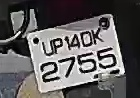1: (64, 36, 70, 51)
2: (39, 60, 59, 82)
4: (71, 34, 81, 49)
5: (96, 47, 118, 71), (77, 51, 98, 75)
7: (60, 55, 77, 80)
D: (80, 30, 92, 48)
K: (91, 27, 105, 46)
P: (52, 37, 64, 54)
U: (40, 40, 53, 57)
